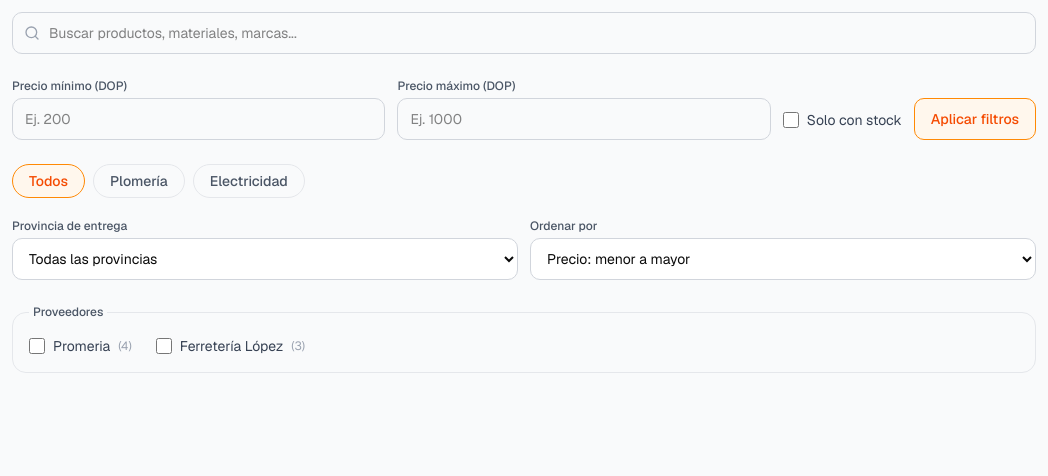
Test: CatalogoFiltros — validación de precios › no aplica filtros y muestra un error propio si un precio es negativo
In the number field labelled "Precio mínimo (DOP)": (199, 119) [12,98,385,140], type "-5"
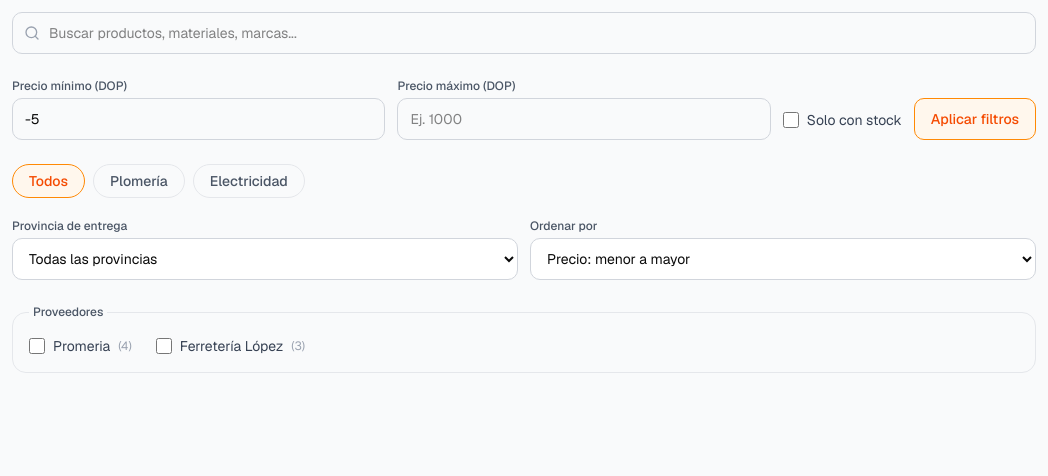
Click the button "Aplicar filtros": (975, 119) [914,98,1036,140]
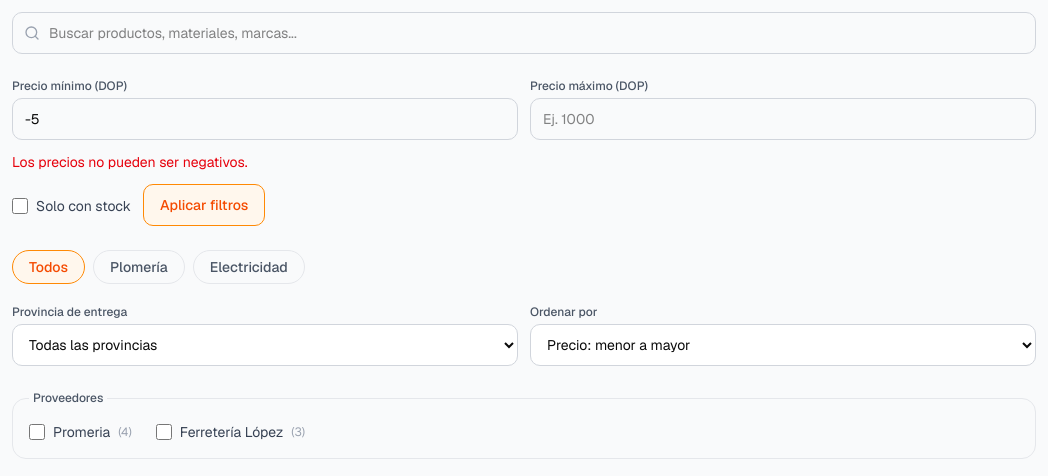
Check: the message reads "Los precios no pueden ser negativos.", box [12,153,248,171]
